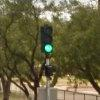Traffic light: (30, 18, 66, 69)
